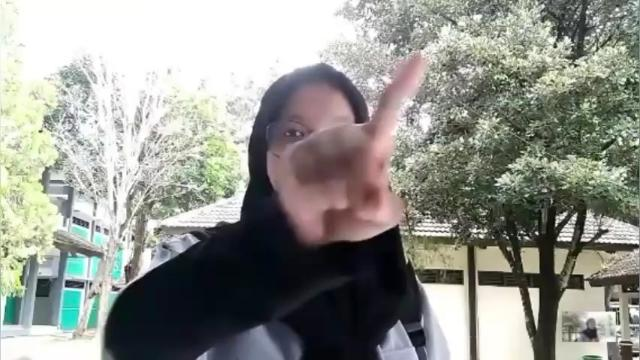Z: (280, 52, 430, 244)
